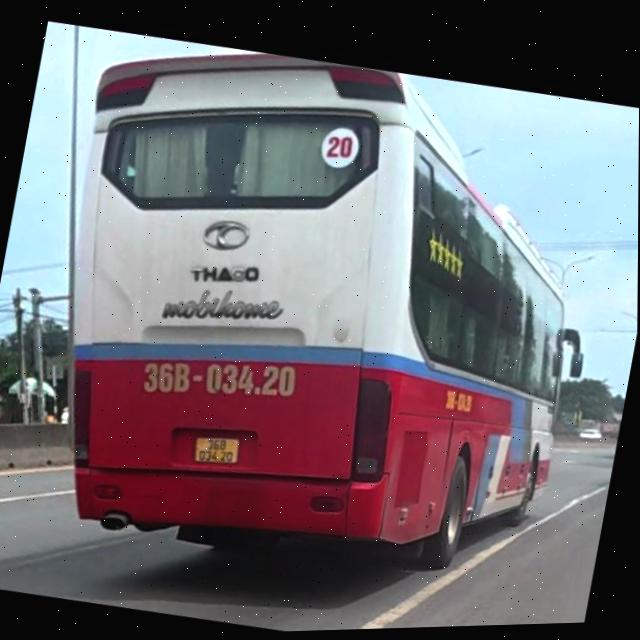car: (9, 13, 634, 614)
plate: (186, 428, 244, 471)
